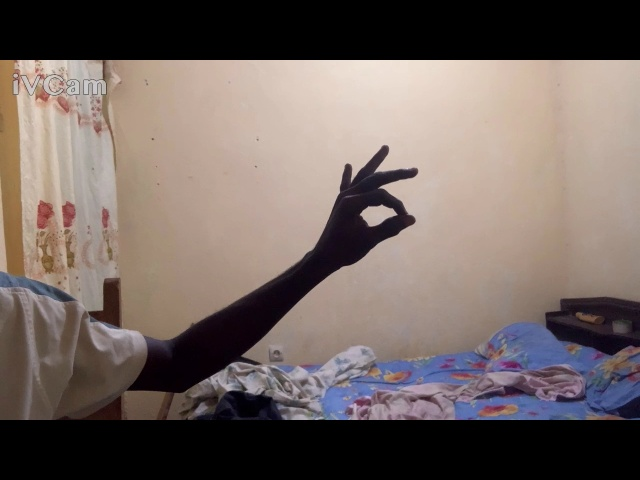oui: (321, 141, 424, 275)
